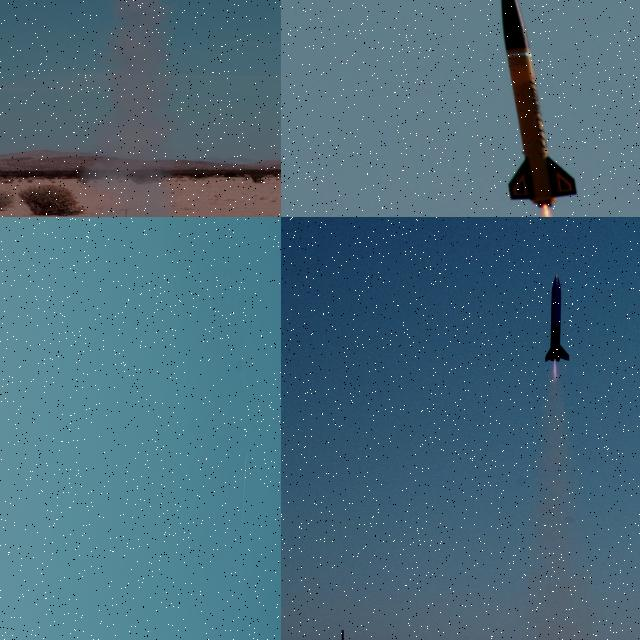Rocket: (496, 0, 578, 208), (545, 273, 570, 362)
